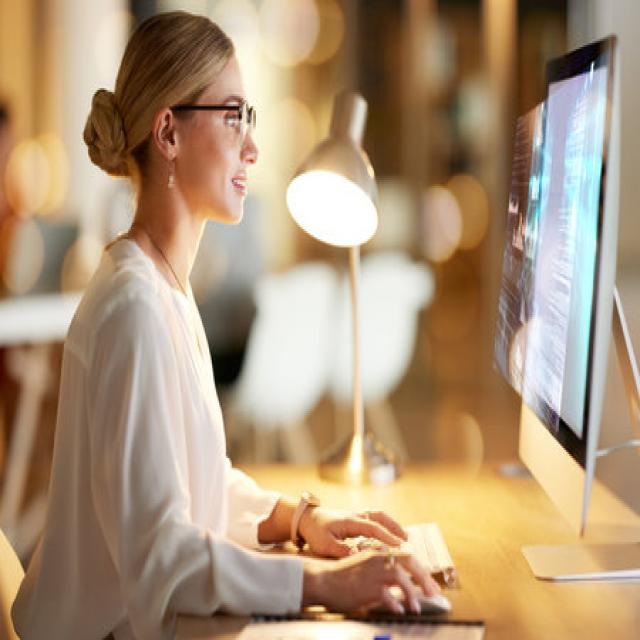desktop-person: (27, 4, 629, 640)
